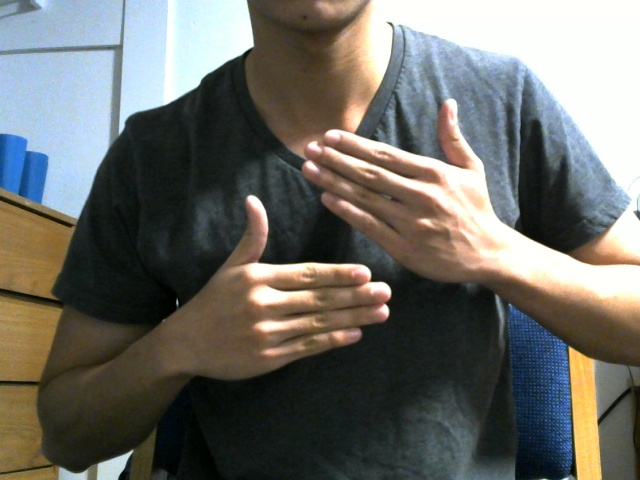Enjoy: (178, 86, 509, 381)
